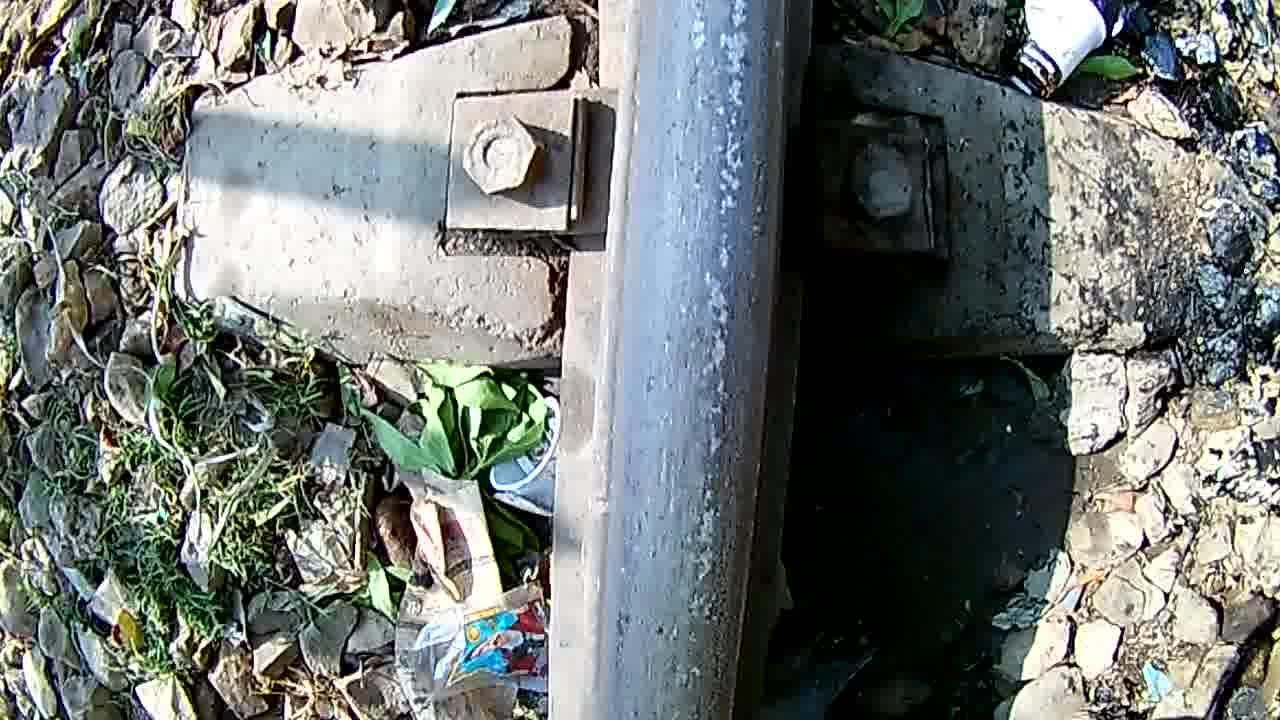crack: (594, 5, 789, 720)
